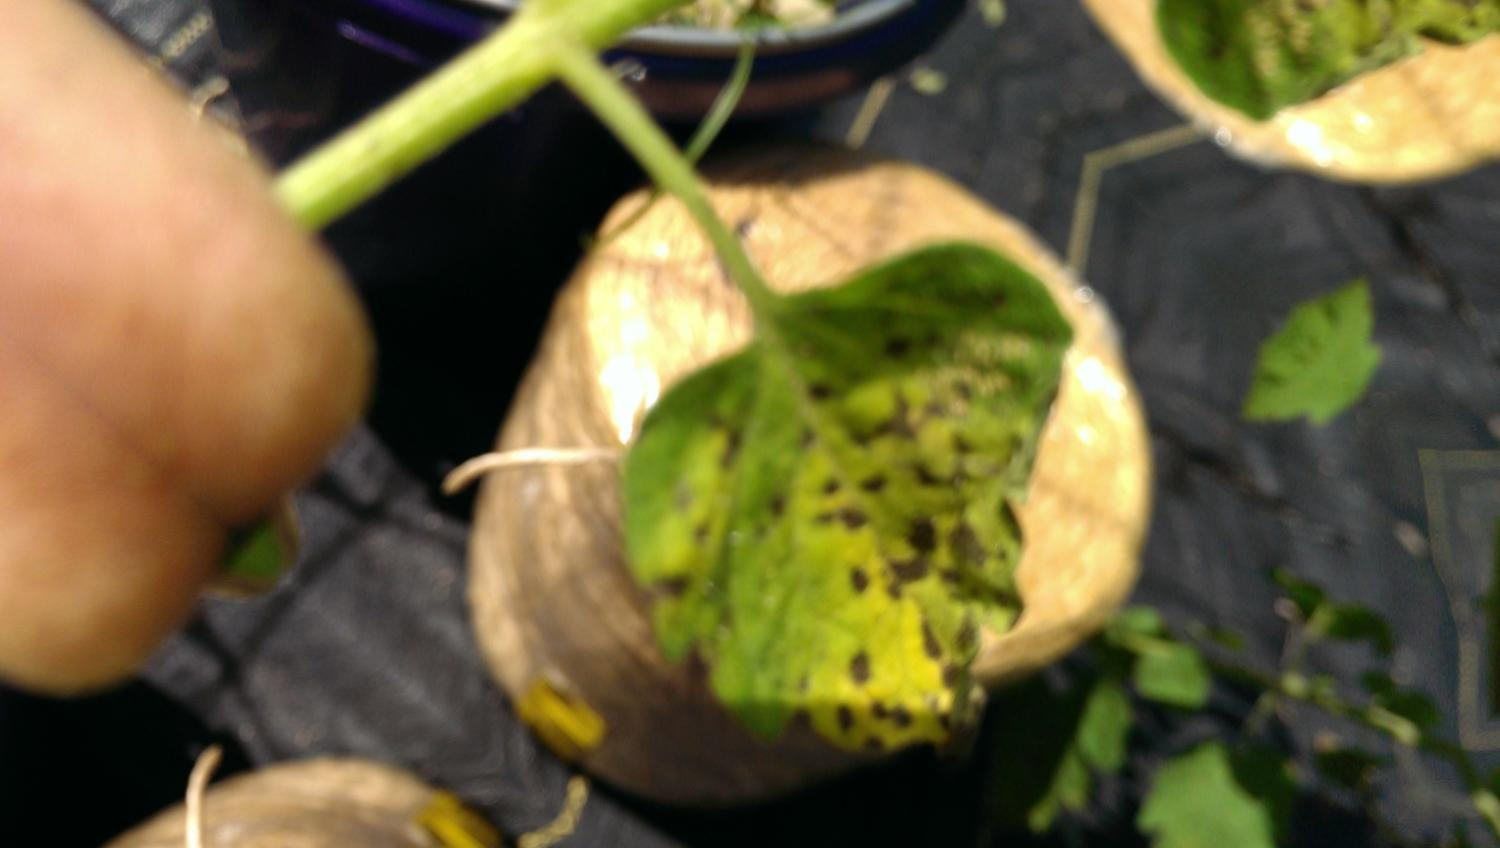Tomato Septoria leaf spot: (463, 110, 1242, 848)
